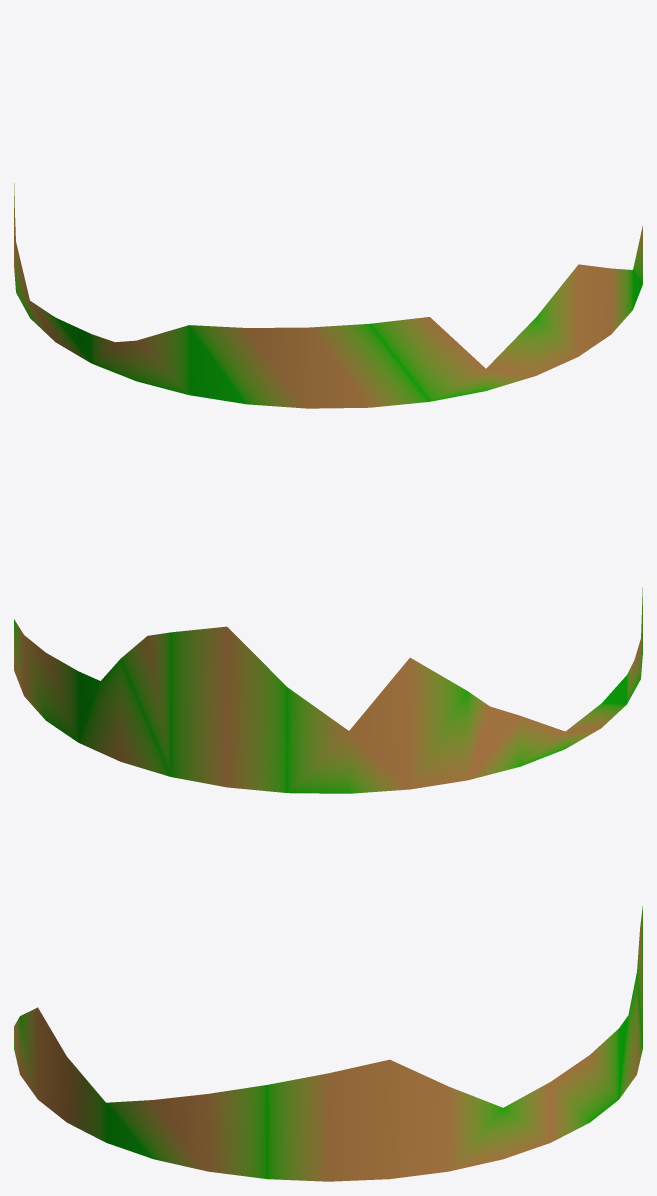
The picture shows the model from 3 angles, top to bottom: view 1: azimuth 30°, elevation 25°; view 2: azimuth 150°, elevation 25°; view 3: azimuth 270°, elevation 25°; orthographic projection.
Visible parts, largest first — view 1: Plane; view 2: Plane; view 3: Plane.
Part boxes in pixels (x1=…): Plane: x1=14, y1=183, x2=642, y2=408; Plane: x1=14, y1=587, x2=642, y2=793; Plane: x1=14, y1=906, x2=642, y2=1181.
Bounding box in the file's own units: 2 × 0.5646 × 2.
